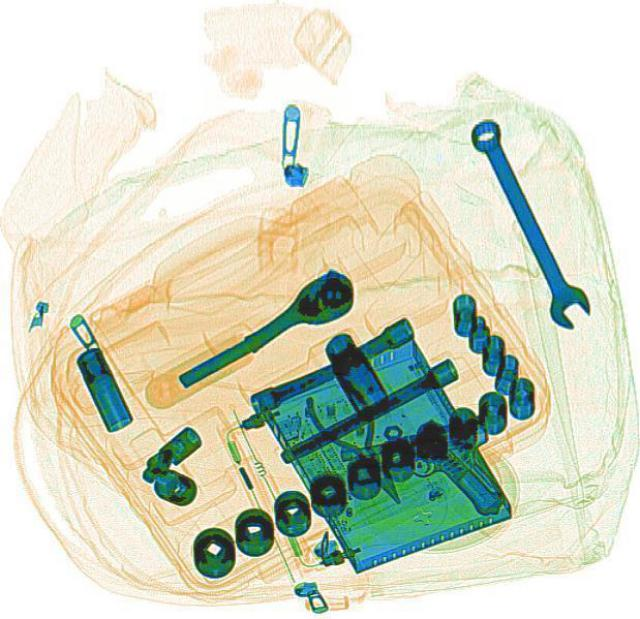Gun: (336, 418, 504, 533)
Pliers: (295, 371, 425, 514)
Wrench: (452, 113, 598, 330)
